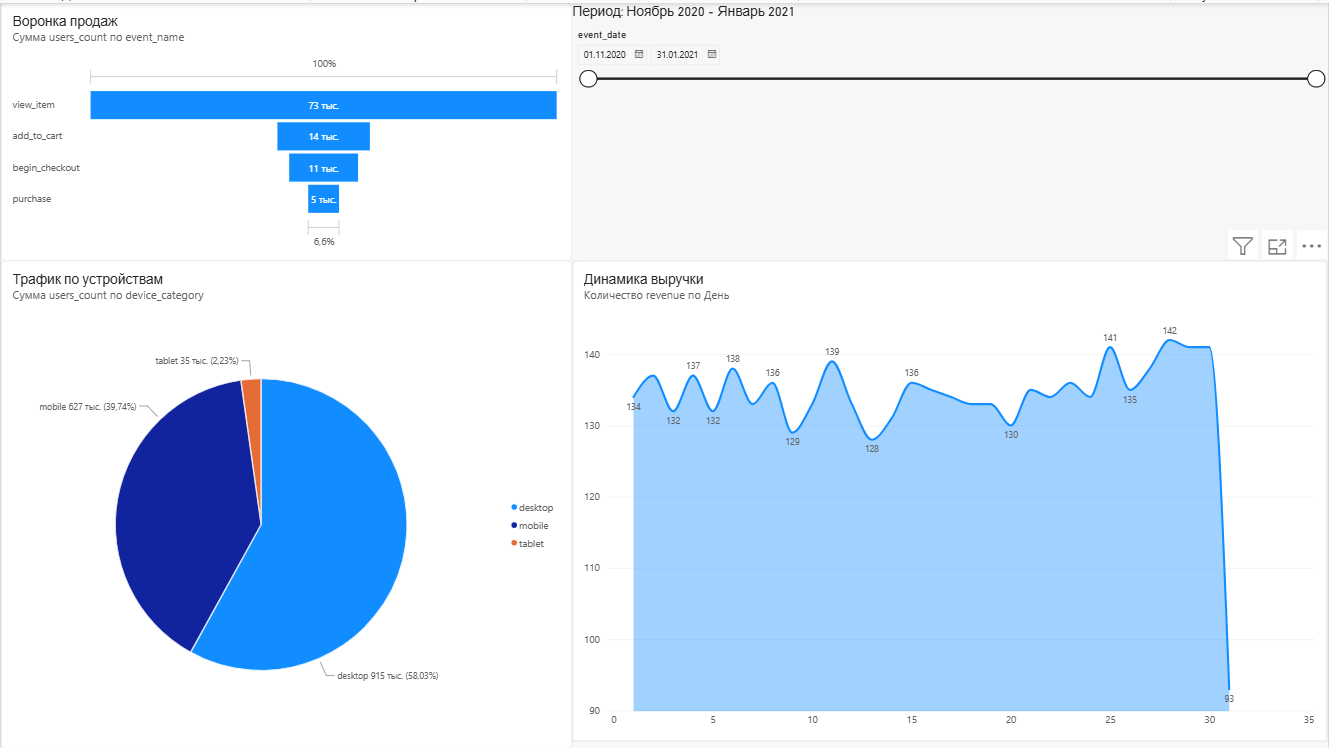

Layout of this report page (visuals, bound fields, positions):
{"tool":"powerbi","page":{"name":"Страница 1","canvas":[1920,1080],"ordinal":0},"visuals":[{"type":"funnel","title":"Воронка продаж","fields":{"Category":["job_9X-lNj95pd4VjTHOQgUm2PkJpwMe.event_name"],"Y":["Sum(job_9X-lNj95pd4VjTHOQgUm2PkJpwMe.users_count)"]},"box":[0,0,826.7,373.3],"z":0},{"type":"pieChart","title":"Трафик по устройствам","fields":{"Category":["job_9X-lNj95pd4VjTHOQgUm2PkJpwMe.device_category"],"Y":["Sum(job_9X-lNj95pd4VjTHOQgUm2PkJpwMe.users_count)"]},"box":[0,373.3,826.7,706.7],"z":1},{"type":"areaChart","title":"Динамика выручки","fields":{"Category":["job_9X-lNj95pd4VjTHOQgUm2PkJpwMe.event_date.Variation.Иерархия дат.День"],"Y":["CountNonNull(job_9X-lNj95pd4VjTHOQgUm2PkJpwMe.revenue)"]},"box":[826.7,373.3,1093.3,696.7],"z":2},{"type":"slicer","title":"Период: Ноябрь 2020 - Январь 2021","fields":{"Values":["job_9X-lNj95pd4VjTHOQgUm2PkJpwMe.event_date"]},"box":[826.7,0,1093.3,373.3],"z":3}]}

Visuals, with their boxes in screenshot pixels (x1, y1, x2, y2), scaled from the page's 1920x1080 canvas onto the 1329x748 screenshot:
"Воронка продаж" funnel: l=0, t=0, r=572, b=259
"Трафик по устройствам" pieChart: l=0, t=259, r=572, b=747
"Динамика выручки" areaChart: l=572, t=259, r=1328, b=741
"Период: Ноябрь 2020 - Январь 2021" slicer: l=572, t=0, r=1328, b=259
